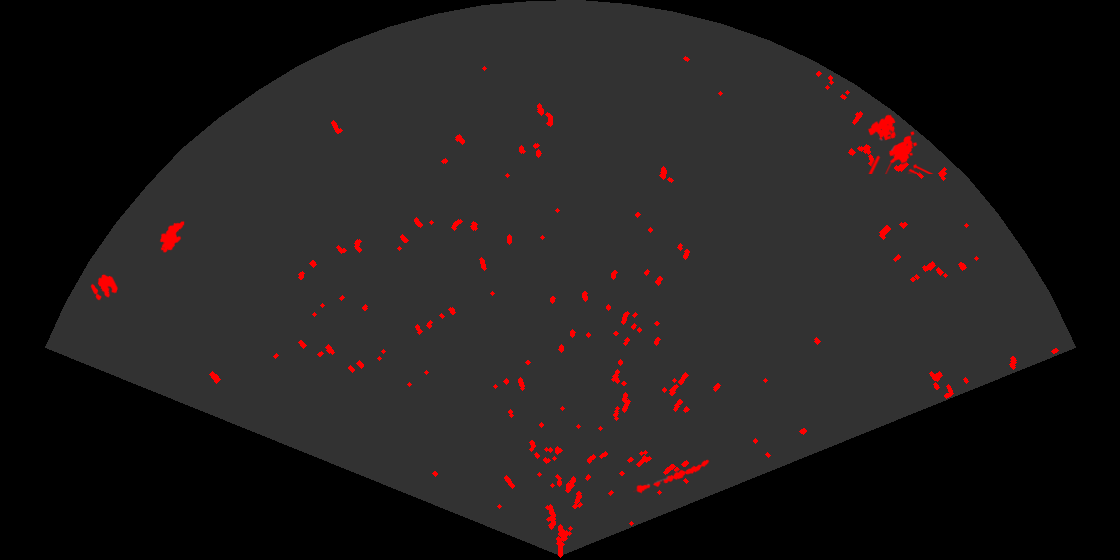AUV: (158, 219, 186, 254)
ball: (89, 273, 120, 302)
cage: (866, 113, 934, 174)
chain: (633, 458, 711, 495)
